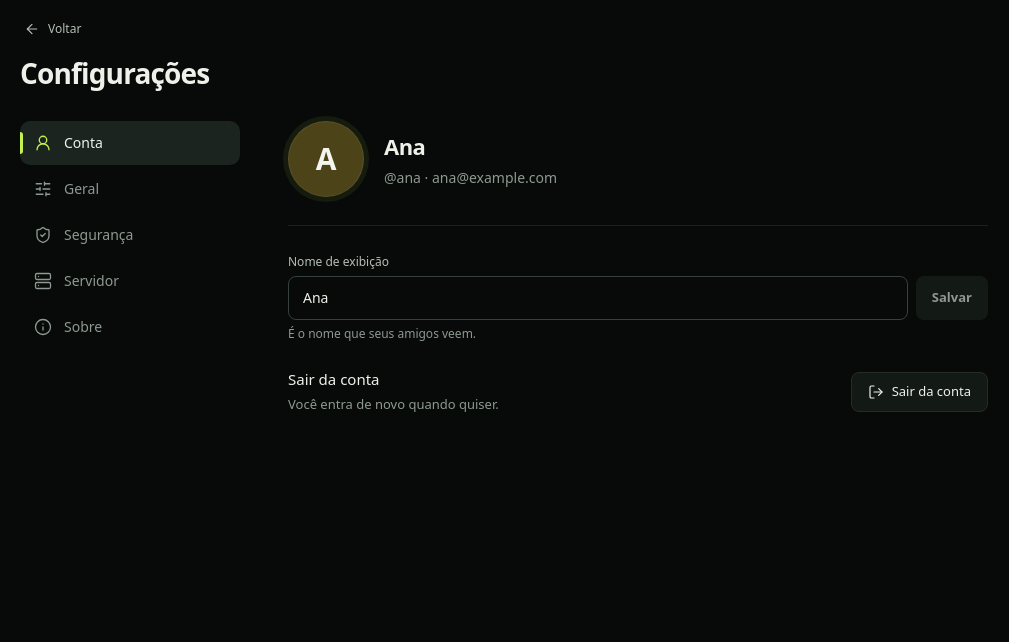
Test: requires a long enough new password before changing it, and reports success
Click the tab "Segurança" at [130, 235], box [20, 213, 240, 257]
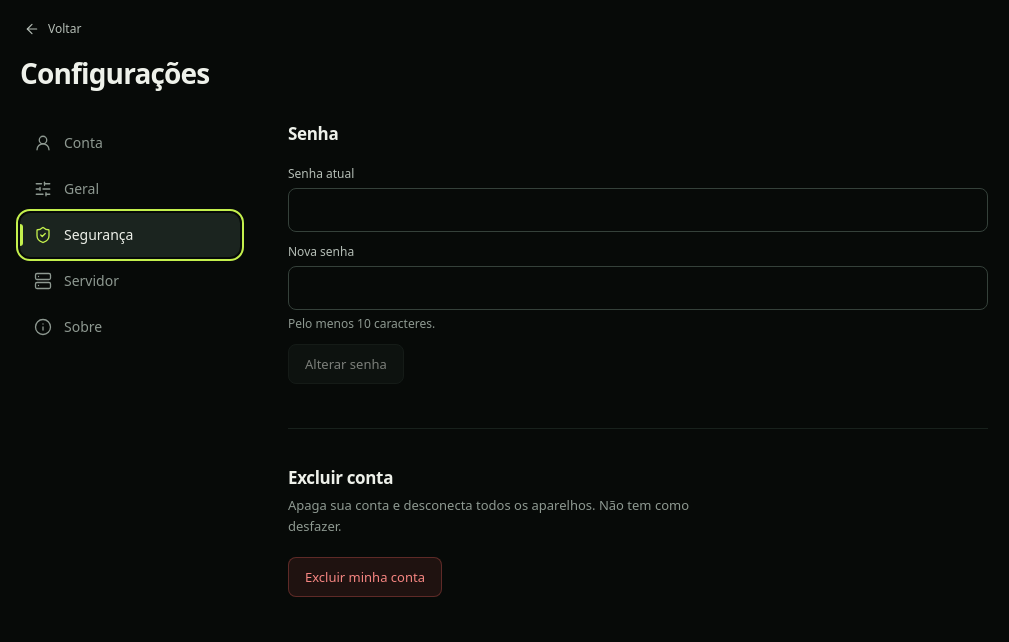
Type "senha-antiga-1" into the password field labelled "Senha atual" at [638, 210], box [288, 188, 988, 232]
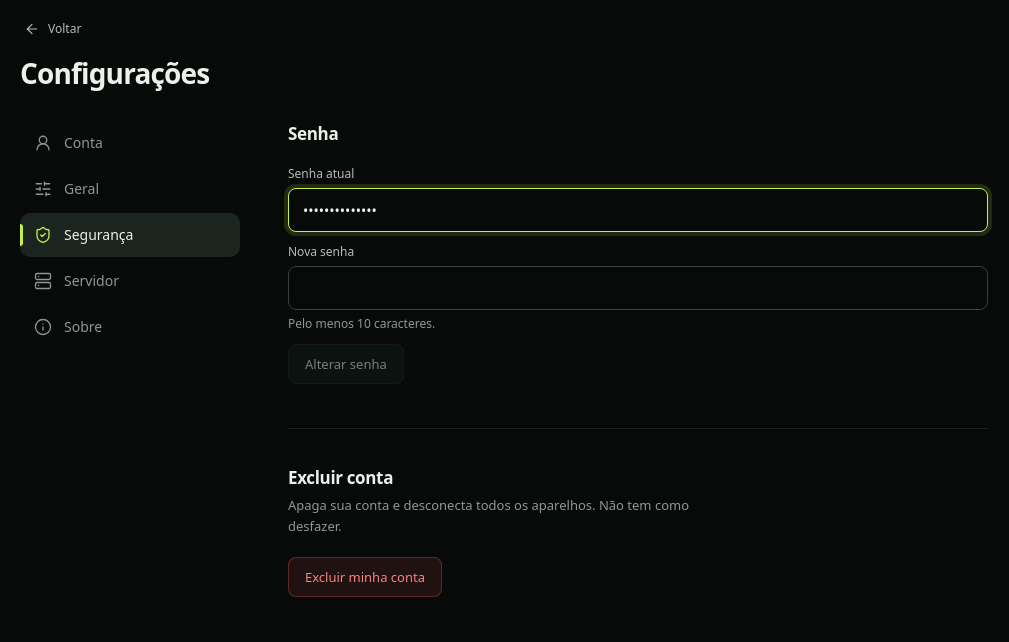
Type "curta" into the password field labelled "Nova senha" at [638, 288], box [288, 266, 988, 310]
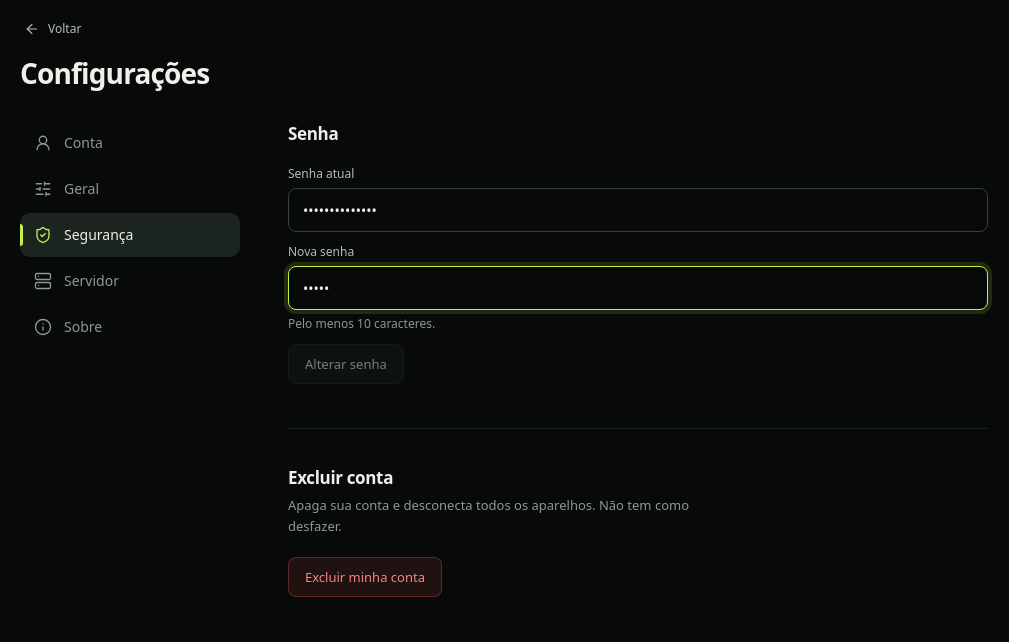
Expected: the button "Alterar senha" is disabled, [288, 344, 404, 384]
Type "uma-senha-bem-longa-42" into the password field labelled "Nova senha" at [638, 288], box [288, 266, 988, 310]
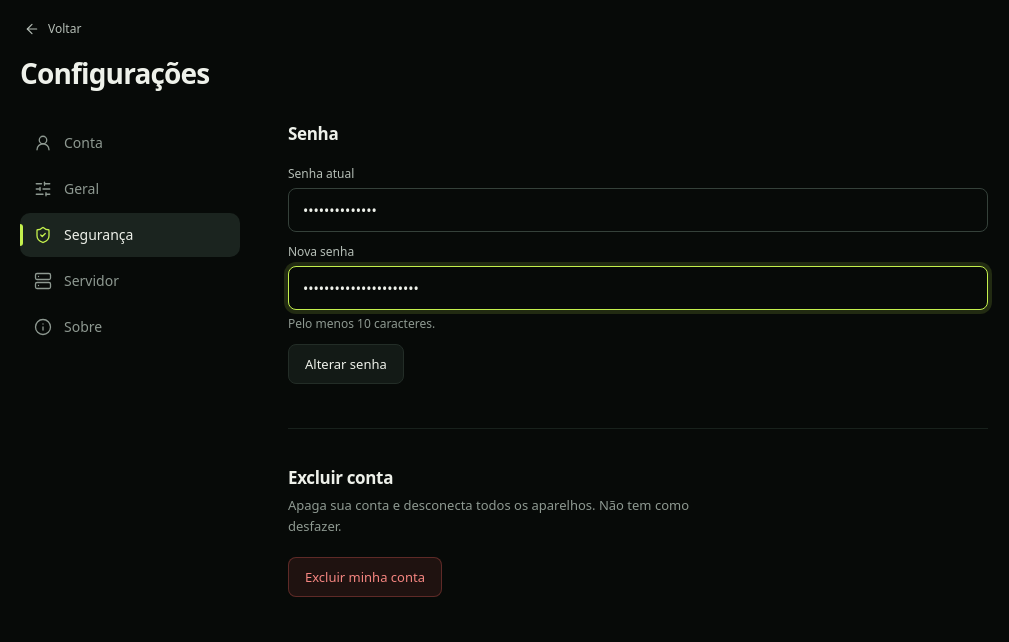
Click the button "Alterar senha" at [346, 364], box [288, 344, 404, 384]
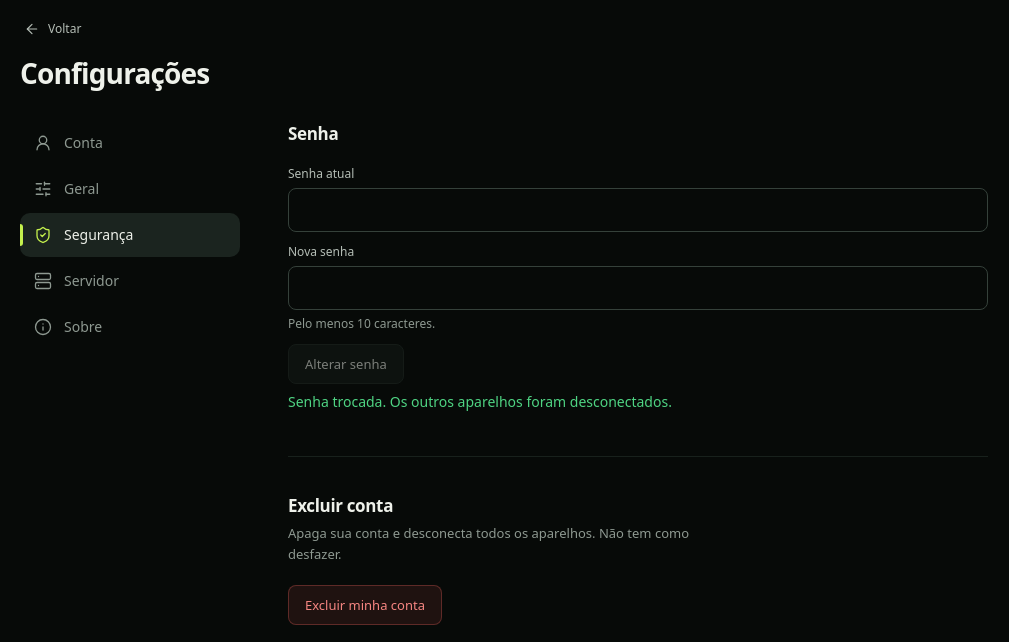
Expected: the text "Senha trocada. Os outros aparelhos foram desconectados." is shown, [288, 392, 672, 411]
